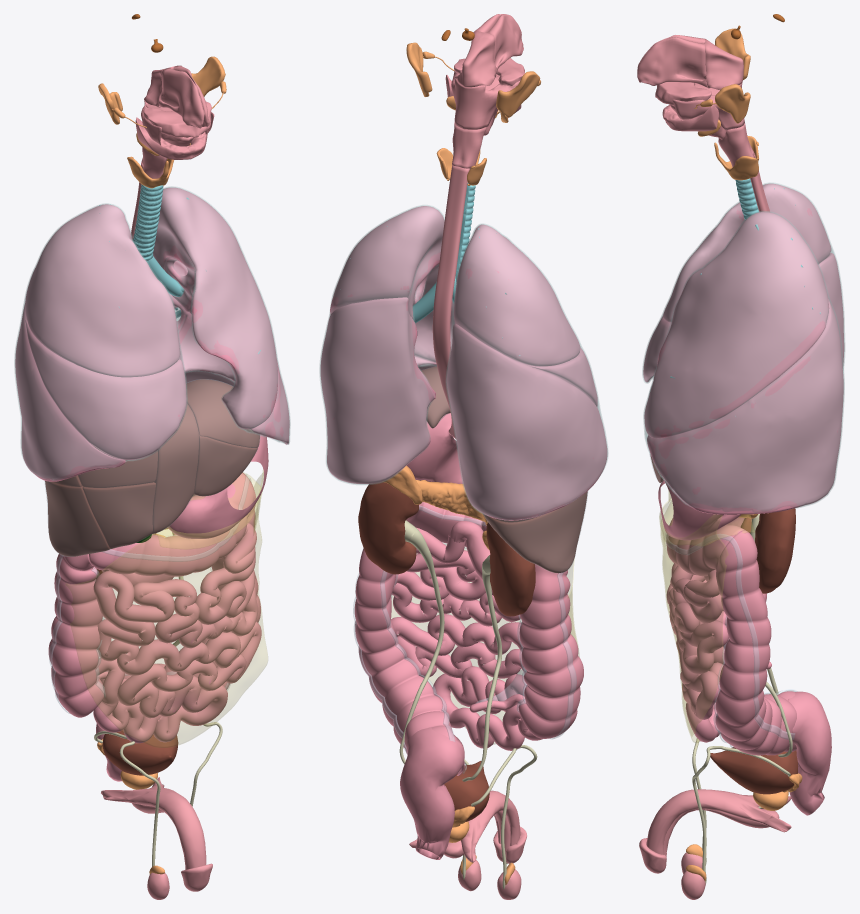
The model's file is visceral.glb.
3 views of the same model, side by side, from view 1: azimuth 30°, elevation 25°; view 2: azimuth 150°, elevation 25°; view 3: azimuth 270°, elevation 25° (orthographic). The views are drawn at different scales.
Parts seen in each view (by area): view 1: Pleura, Greater_omentum, Jejunum, Superior_lobe_of_right_lung, Liver, Superior_lobe_of_left_lung, Middle_lobe_of_right_lung, Ascending_colon, Inferior_lobe_of_right_lung, Transverse_colon, Left_medial_segment_of_liver_(IV), Anterior_medial_segment_of_liver_(V) (+18 smaller); view 2: Pleura, Inferior_lobe_of_right_lung, Inferior_lobe_of_left_lung, Jejunum, Superior_lobe_of_right_lung, Superior_lobe_of_left_lung, Ascending_colon, Descending_colon, Sigmoid_colon, Liver, Kidneyl, Anterior_lateral_segment_of_liver_(VI) (+27 smaller); view 3: Pleura, Superior_lobe_of_left_lung, Inferior_lobe_of_left_lung, Descending_colon, Greater_omentum, Jejunum, Superior_lobe_of_right_lung, Sigmoid_colon, Corpus_cavernosum_of_penis, Mucosa_of_nasal_cavity, Kidneyl, Urinary_bladder (+19 smaller).
Boxes of the visible parts, box(x1,y1,x2,y2) form: Pleura: box(14, 186, 290, 480); Greater_omentum: box(65, 470, 267, 747); Jejunum: box(93, 523, 261, 743); Superior_lobe_of_right_lung: box(25, 204, 180, 377); Liver: box(44, 379, 260, 556); Superior_lobe_of_left_lung: box(153, 187, 277, 429); Middle_lobe_of_right_lung: box(25, 319, 186, 459); Ascending_colon: box(48, 553, 103, 717); Inferior_lobe_of_right_lung: box(15, 303, 125, 481); Transverse_colon: box(89, 472, 254, 576); Left_medial_segment_of_liver_(IV): box(151, 404, 198, 533); Anterior_medial_segment_of_liver_(V): box(83, 482, 155, 548); Pleura: box(319, 205, 608, 519); Inferior_lobe_of_right_lung: box(446, 324, 607, 520); Inferior_lobe_of_left_lung: box(320, 297, 436, 483); Jejunum: box(391, 527, 542, 750); Superior_lobe_of_right_lung: box(453, 224, 580, 366); Superior_lobe_of_left_lung: box(330, 206, 454, 362); Ascending_colon: box(518, 564, 583, 738); Descending_colon: box(354, 548, 464, 775); Sigmoid_colon: box(400, 727, 464, 859); Liver: box(421, 366, 587, 573); Kidneyl: box(358, 482, 418, 574); Anterior_lateral_segment_of_liver_(VI): box(483, 491, 587, 573); Pleura: box(642, 182, 845, 512); Superior_lobe_of_left_lung: box(644, 212, 828, 438); Inferior_lobe_of_left_lung: box(647, 299, 843, 514); Descending_colon: box(715, 530, 796, 755); Greater_omentum: box(659, 490, 728, 742); Jejunum: box(666, 563, 728, 742); Superior_lobe_of_right_lung: box(663, 183, 831, 322); Sigmoid_colon: box(788, 691, 831, 815); Corpus_cavernosum_of_penis: box(646, 789, 791, 854); Mucosa_of_nasal_cavity: box(637, 35, 706, 86); Kidneyl: box(755, 508, 795, 593); Urinary_bladder: box(710, 747, 798, 794).
Size of what is drawn, in the model's own units: 26.34 by 89.31 by 19.26.
